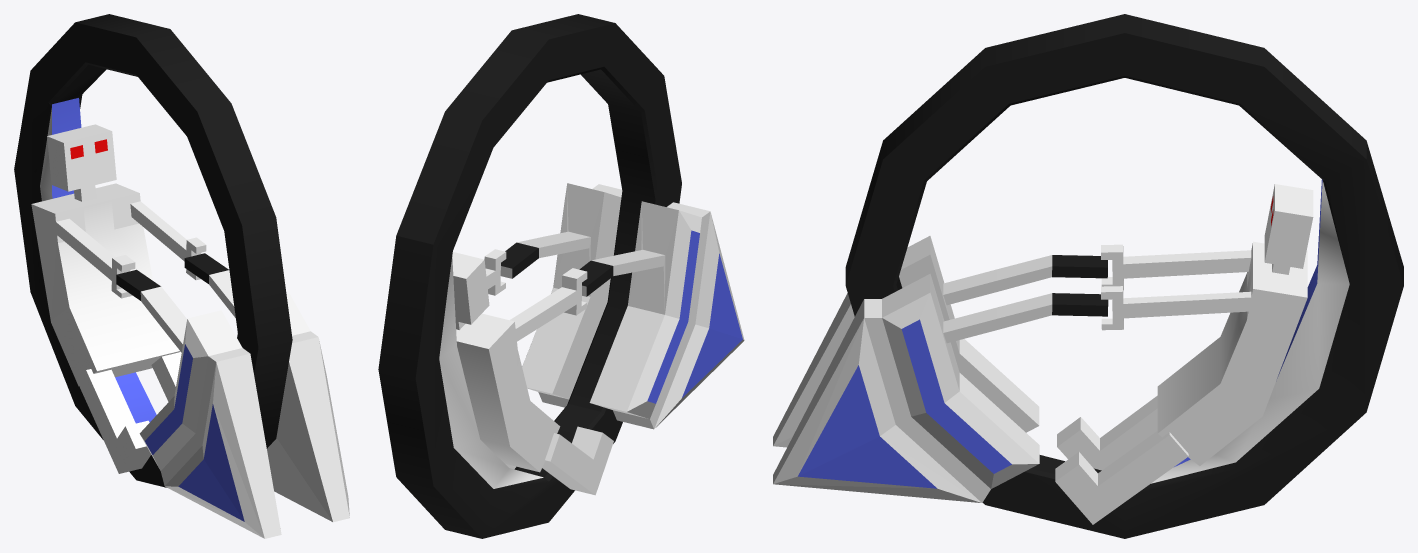
The model's file is jack_001.FBX.
3 views of the same model, side by side, from view 1: azimuth 30°, elevation 25°; view 2: azimuth 150°, elevation 25°; view 3: azimuth 270°, elevation 25° (orthographic). The views are drawn at different scales.
Visible parts, largest first — view 1: Cylinder001, SegBody, SegRLeg_L, SegRLeg_R; view 2: Cylinder001, SegBody, SegRLeg_L; view 3: Cylinder001, SegBody, SegRLeg_R, SegRLeg_L.
Boxes of the visible parts, bbox=[...] form: Cylinder001: bbox=[14, 14, 349, 538]; SegBody: bbox=[31, 124, 206, 386]; SegRLeg_L: bbox=[77, 369, 151, 473]; SegRLeg_R: bbox=[151, 351, 181, 401]; Cylinder001: bbox=[378, 14, 744, 538]; SegBody: bbox=[452, 249, 587, 472]; SegRLeg_L: bbox=[542, 426, 613, 495]; Cylinder001: bbox=[773, 14, 1403, 538]; SegBody: bbox=[1101, 184, 1313, 465]; SegRLeg_R: bbox=[1055, 431, 1188, 524]; SegRLeg_L: bbox=[1057, 395, 1157, 470].
Bounding box in the file's own units: 53.94 × 197 × 222.
